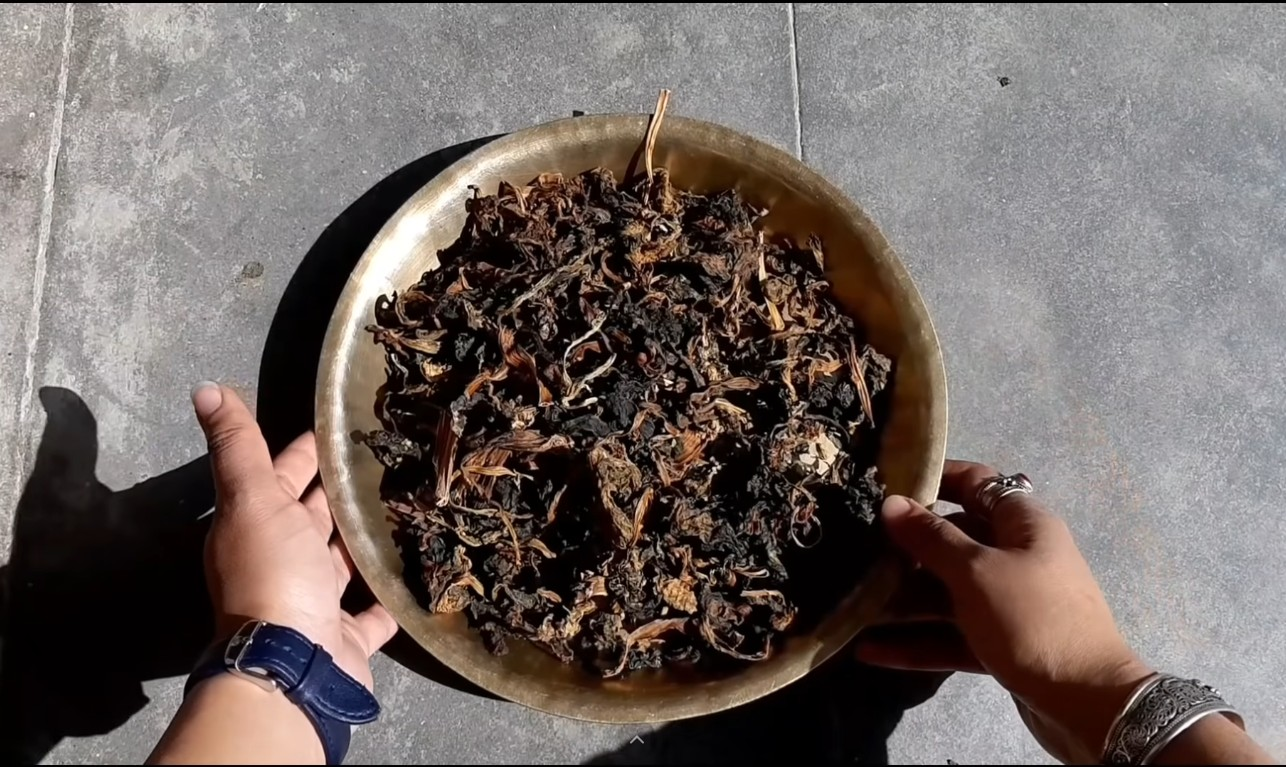gundruk: (362, 172, 867, 655)
